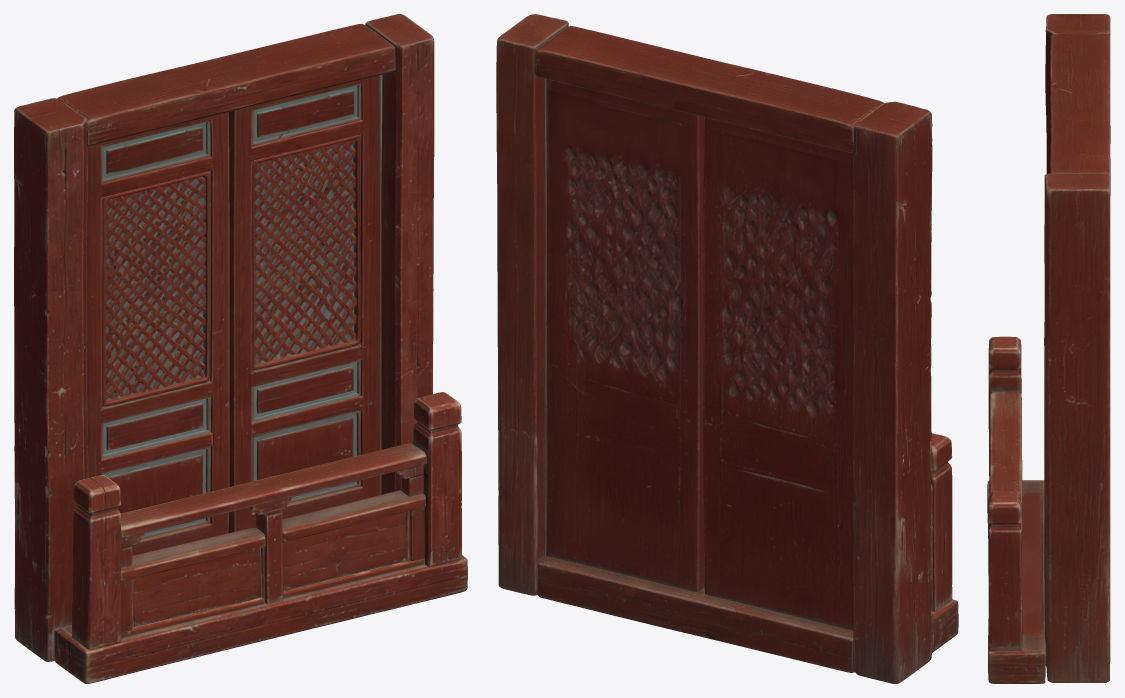
The model's file is tower.glb.
3 views of the same model, side by side, from view 1: azimuth 30°, elevation 25°; view 2: azimuth 150°, elevation 25°; view 3: azimuth 270°, elevation 25° (orthographic). The views are drawn at different scales.
Visible parts, largest first — view 1: model; view 2: model; view 3: model.
Boxes of the visible parts, left/top/right/bottom form: model: left=14, top=14, right=467, bottom=683; model: left=496, top=14, right=958, bottom=683; model: left=987, top=14, right=1110, bottom=683.
Bounding box in the file's own units: 1.46 × 1.9 × 0.4289.
1 material, 1 textured.
